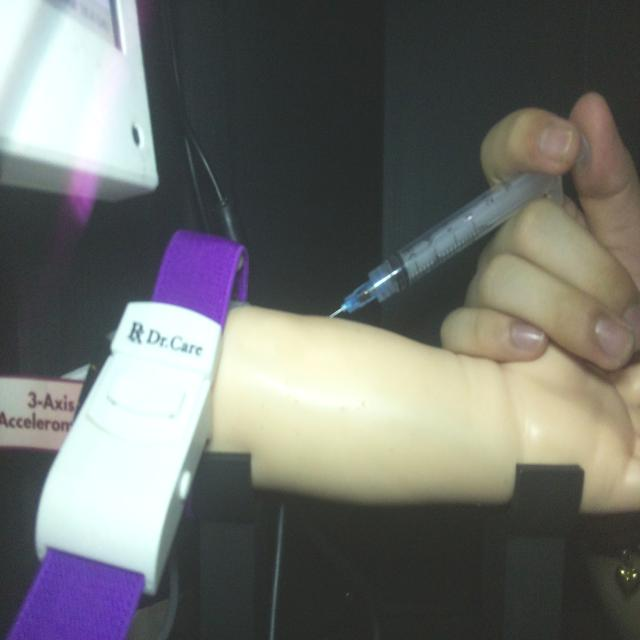25 degrees: (327, 121, 592, 319)
